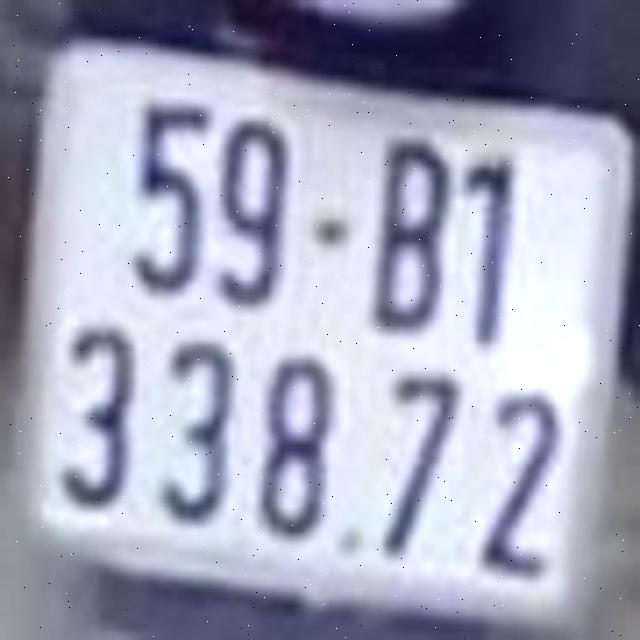1: (461, 145, 518, 348)
2: (483, 384, 561, 579)
3: (62, 322, 134, 509), (162, 335, 232, 526)
5: (131, 96, 208, 295)
7: (382, 367, 461, 560)
8: (259, 350, 332, 539)
9: (216, 111, 287, 310)
B: (372, 130, 450, 336)
